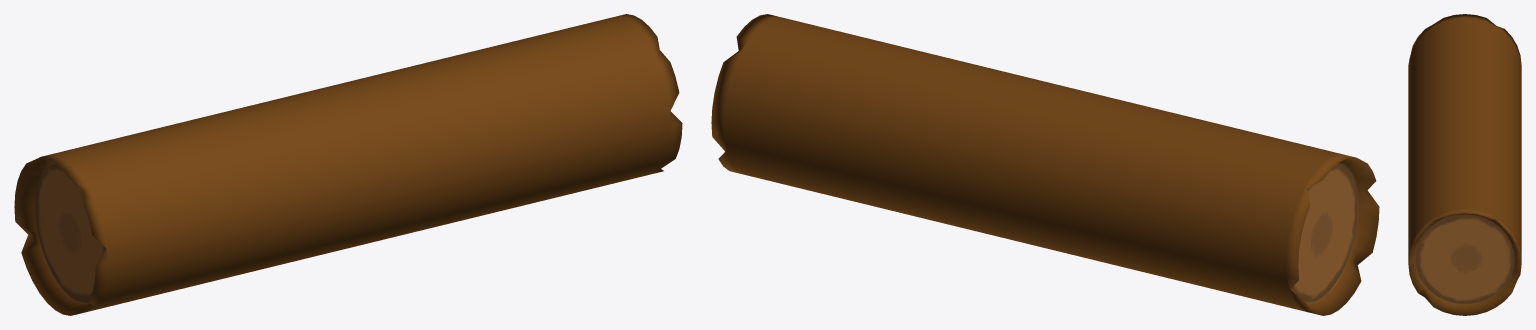
The model's file is log.glb.
3 renders of one model, left to right at view 1: azimuth 30°, elevation 25°; view 2: azimuth 150°, elevation 25°; view 3: azimuth 270°, elevation 25°, orthographic. The views are drawn at different scales.
Visible parts, largest first — view 1: Cylinder; view 2: Cylinder; view 3: Cylinder.
Part boxes in pixels (x1,y1,x2,y2): Cylinder: (14, 14, 682, 315); Cylinder: (711, 14, 1379, 315); Cylinder: (1408, 14, 1521, 315).
Size of the model in its own units: 1.48 by 0.356 by 0.356.
Materials: 1 (1 with a texture image).
